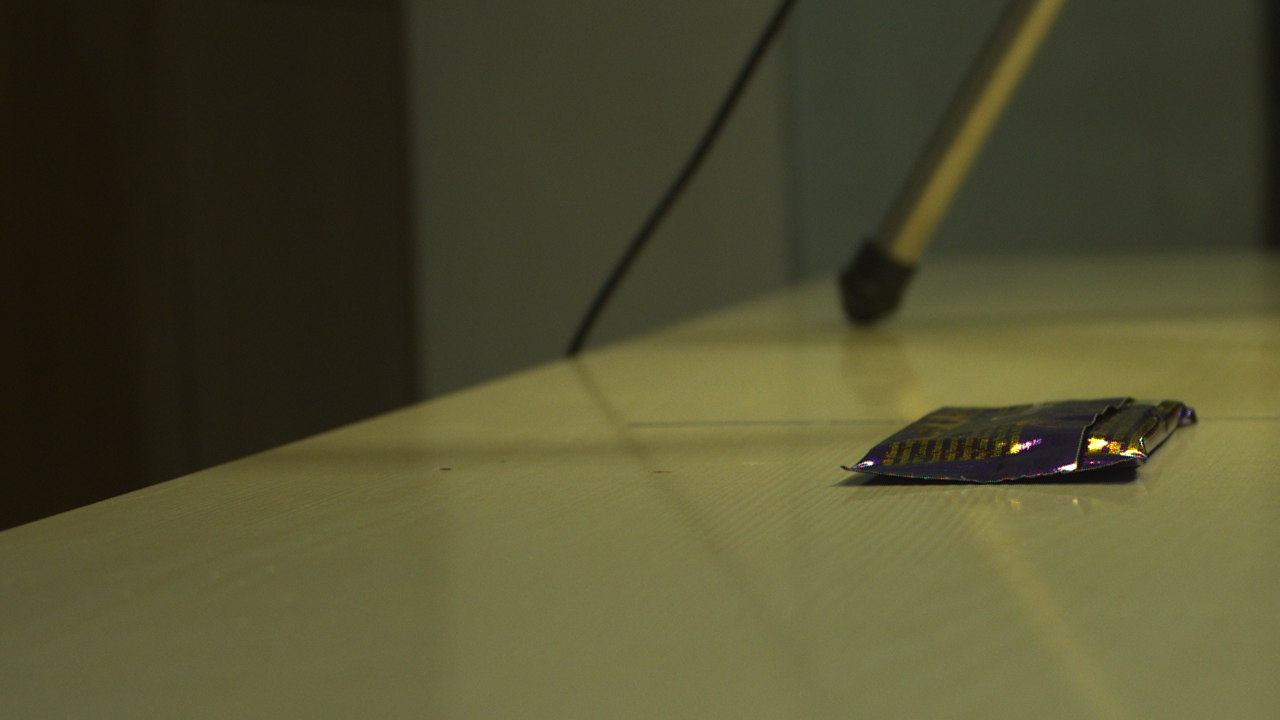Good: (852, 435, 1130, 486)
